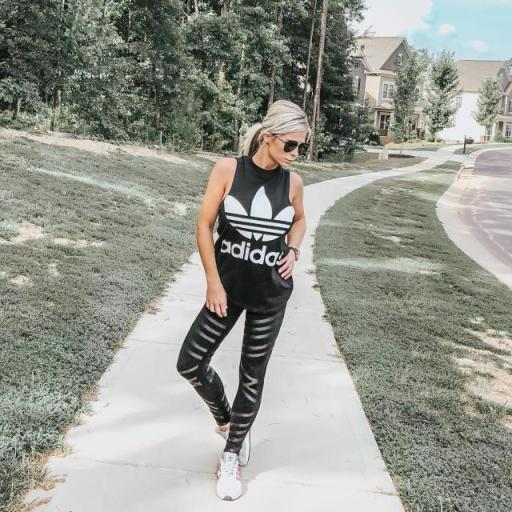Adidas: (216, 180, 296, 269)
